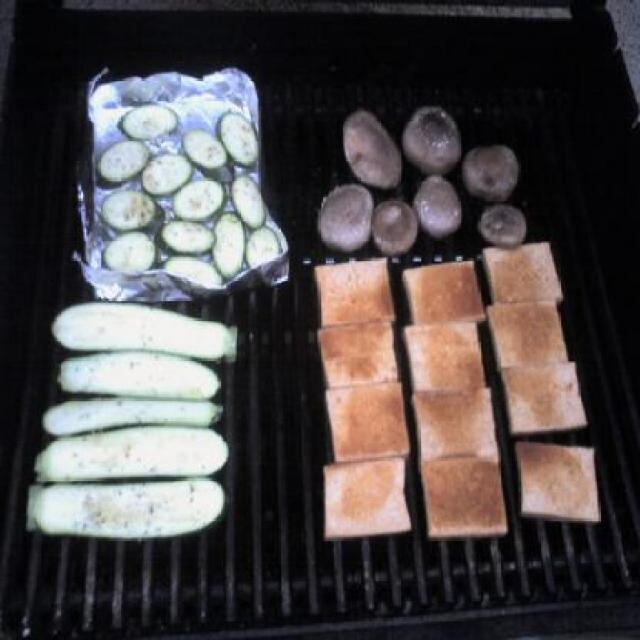Zucchini: (30, 473, 224, 538), (40, 420, 229, 480), (55, 300, 228, 358), (59, 345, 222, 403), (41, 393, 222, 432), (206, 208, 245, 283), (102, 228, 160, 278), (230, 170, 272, 238), (101, 190, 160, 238), (216, 106, 259, 171), (168, 175, 230, 220), (118, 100, 177, 145), (99, 133, 144, 184), (158, 213, 220, 250), (168, 255, 220, 298), (244, 223, 284, 272), (142, 149, 190, 188), (179, 129, 227, 168)
